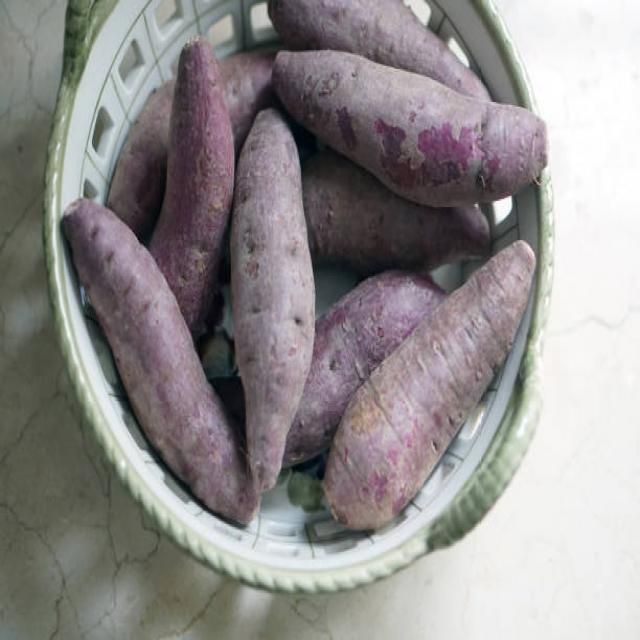Sweet Potato: (319, 237, 536, 525), (64, 194, 252, 522), (271, 42, 549, 201), (233, 105, 313, 501), (151, 38, 235, 278)
